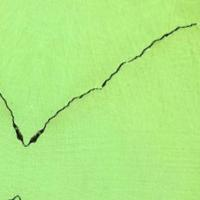crack: (1, 21, 199, 159)
